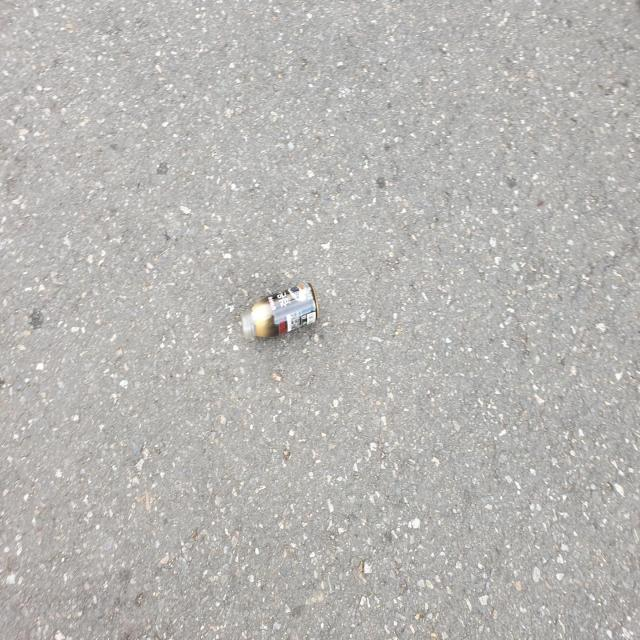glass: (241, 283, 319, 339)
